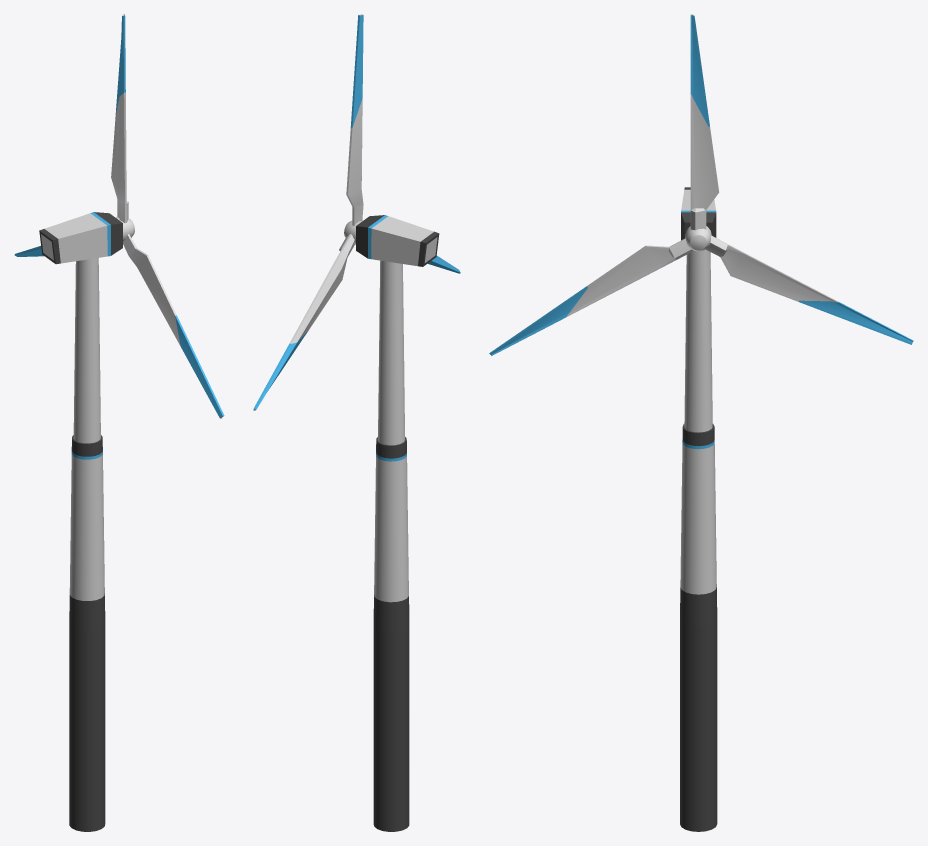
File: SM_WindGenetor.fbx
3 views of the same model, side by side, from view 1: azimuth 30°, elevation 25°; view 2: azimuth 150°, elevation 25°; view 3: azimuth 270°, elevation 25° (orthographic). The views are drawn at different scales.
Parts seen in each view (by area): view 1: Cube, Cube.002; view 2: Cube, Cube.002; view 3: Cube, Cube.002.
Part boxes in pixels (<box>): Cube: <box>39,212,134,831</box>; Cube.002: <box>14,14,224,418</box>; Cube: <box>344,215,439,831</box>; Cube.002: <box>253,14,460,410</box>; Cube: <box>680,187,717,831</box>; Cube.002: <box>489,14,913,355</box>.
Size of the model in its own units: 312 by 2776 by 1292.
